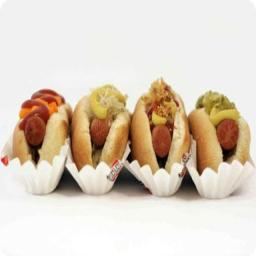hotdog: (130, 79, 190, 186), (72, 84, 130, 180), (13, 85, 71, 174), (187, 102, 250, 180)
